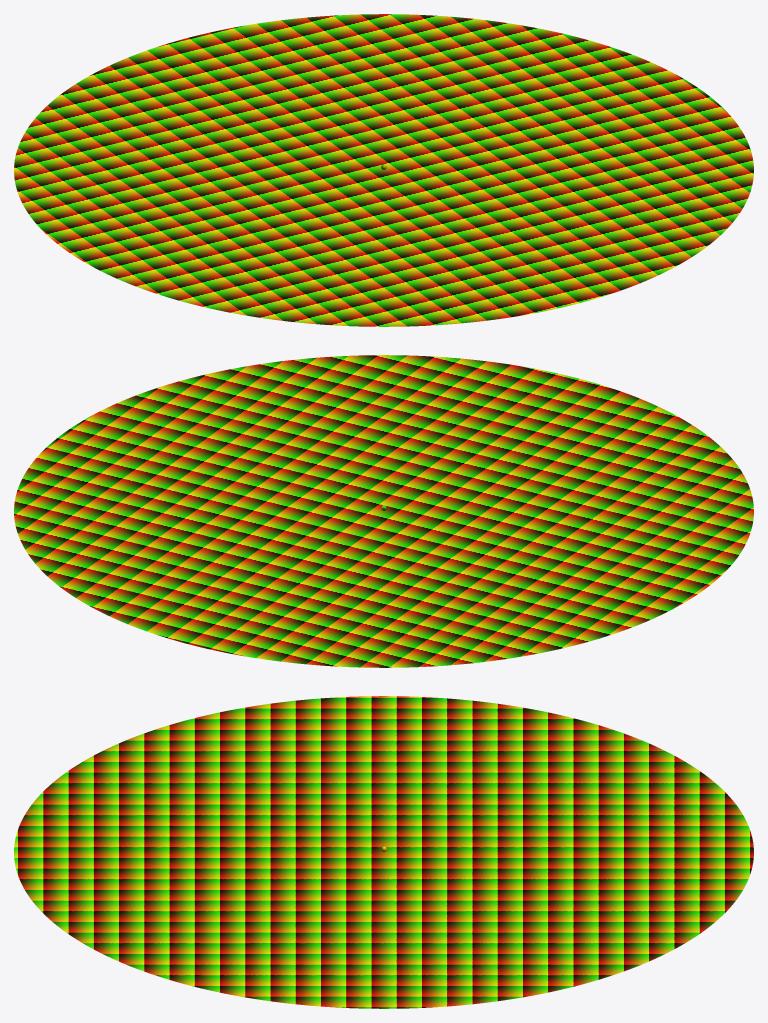
The picture shows the model from 3 angles, top to bottom: view 1: azimuth 30°, elevation 25°; view 2: azimuth 150°, elevation 25°; view 3: azimuth 270°, elevation 25°; orthographic projection.
Visible parts, largest first — view 1: pDisc1; view 2: pDisc1; view 3: pDisc1.
Part boxes in pixels (x1,y1,x2,y2): pDisc1: (14, 14, 753, 326); pDisc1: (14, 355, 753, 667); pDisc1: (14, 696, 753, 1008).
Size of the model in its own units: 200 by 1.75 by 200.
